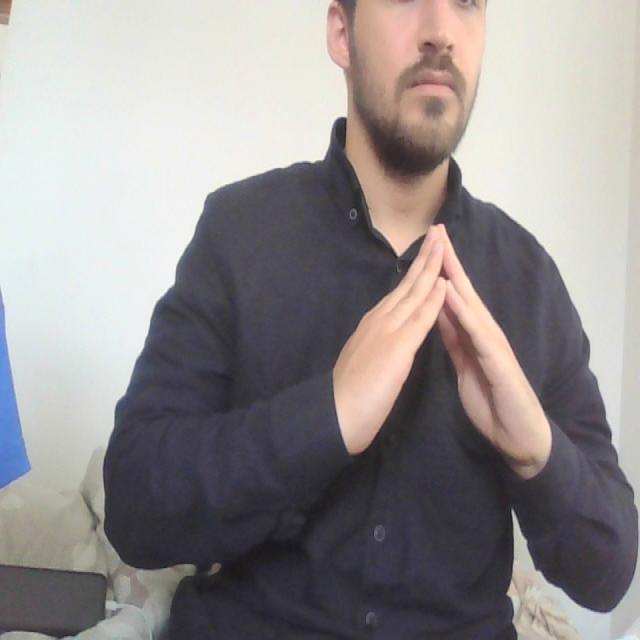Ev: (331, 215, 557, 478)
